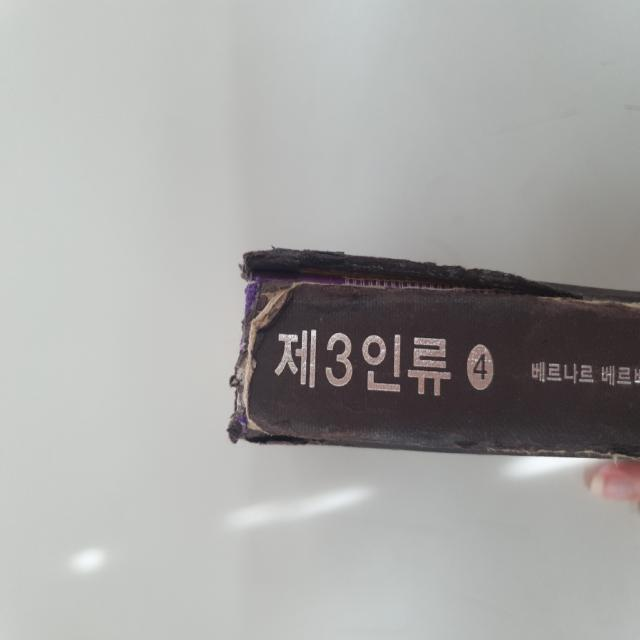Ripped: (232, 234, 584, 327), (212, 417, 332, 453)
Wornout: (485, 440, 639, 470), (223, 327, 270, 417), (584, 291, 639, 316)
